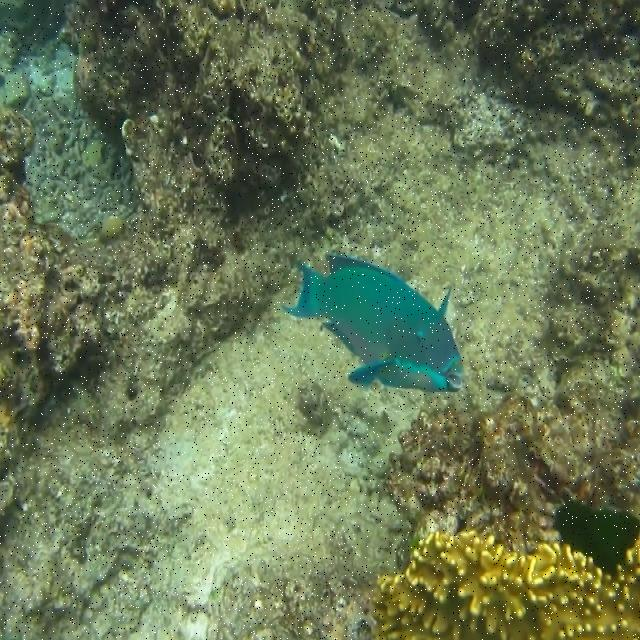fish: (280, 254, 464, 393)
reefs: (370, 527, 639, 639)
